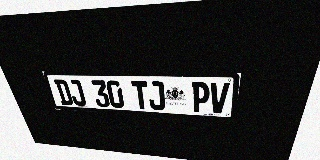0: (105, 80, 125, 108)
3: (91, 80, 110, 107)
D: (53, 79, 74, 106)
J: (147, 81, 165, 110), (67, 80, 87, 106)
P: (192, 82, 210, 113)
T: (131, 81, 150, 110)
V: (209, 82, 230, 114)
